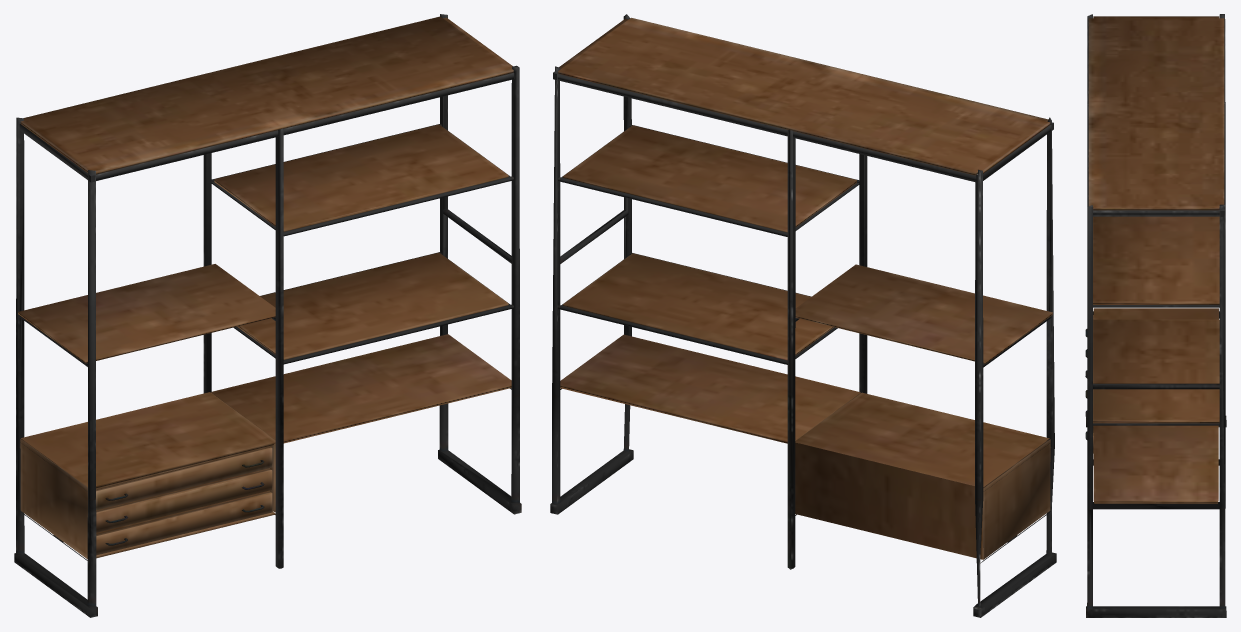
File: shelfSteel3_lo.glb
The picture shows the model from 3 angles, left to right: view 1: azimuth 30°, elevation 25°; view 2: azimuth 150°, elevation 25°; view 3: azimuth 270°, elevation 25°; orthographic projection. The views are drawn at different scales.
Visible parts, largest first — view 1: steel_frame_shelves_03, steel_frame_shelves_03_drawer_03, steel_frame_shelves_03_drawer_02, steel_frame_shelves_03_drawer_01; view 2: steel_frame_shelves_03; view 3: steel_frame_shelves_03.
Part boxes in pixels (x1,y1,x2,y2): steel_frame_shelves_03: [14, 14, 521, 617]; steel_frame_shelves_03_drawer_03: [96, 491, 272, 555]; steel_frame_shelves_03_drawer_02: [96, 469, 272, 532]; steel_frame_shelves_03_drawer_01: [96, 447, 272, 510]; steel_frame_shelves_03: [550, 14, 1056, 617]; steel_frame_shelves_03: [1086, 14, 1226, 617].
Size of the model in its own units: 2.35 by 2.31 by 0.7201.
2 materials, 2 textured.
